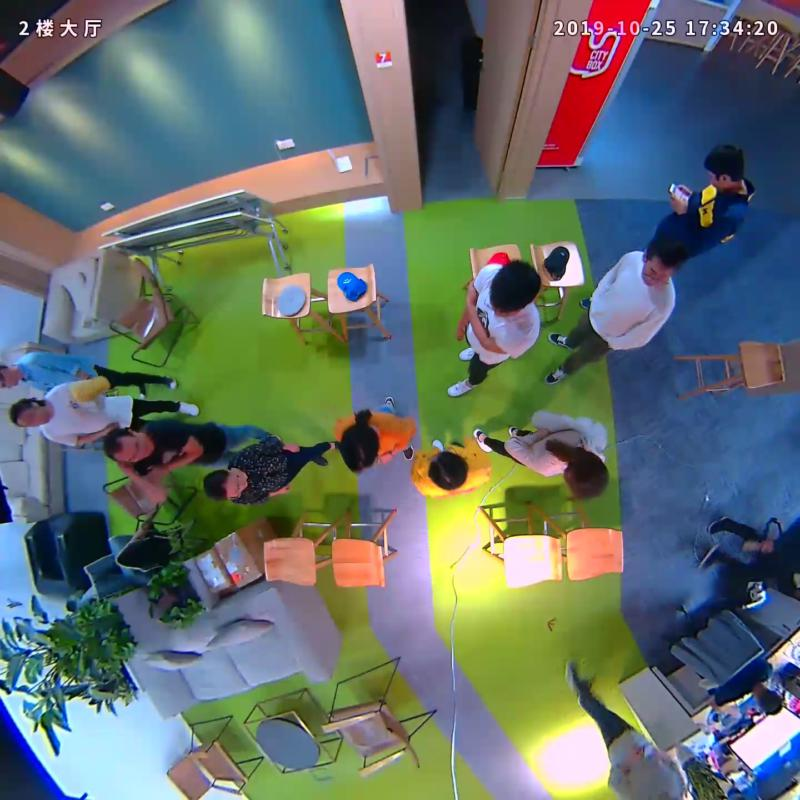head: (488, 259, 540, 315), (640, 239, 688, 287), (565, 450, 609, 497), (340, 424, 381, 473), (704, 144, 744, 191), (103, 426, 151, 464), (428, 451, 468, 489), (203, 469, 249, 502), (10, 399, 51, 428)
